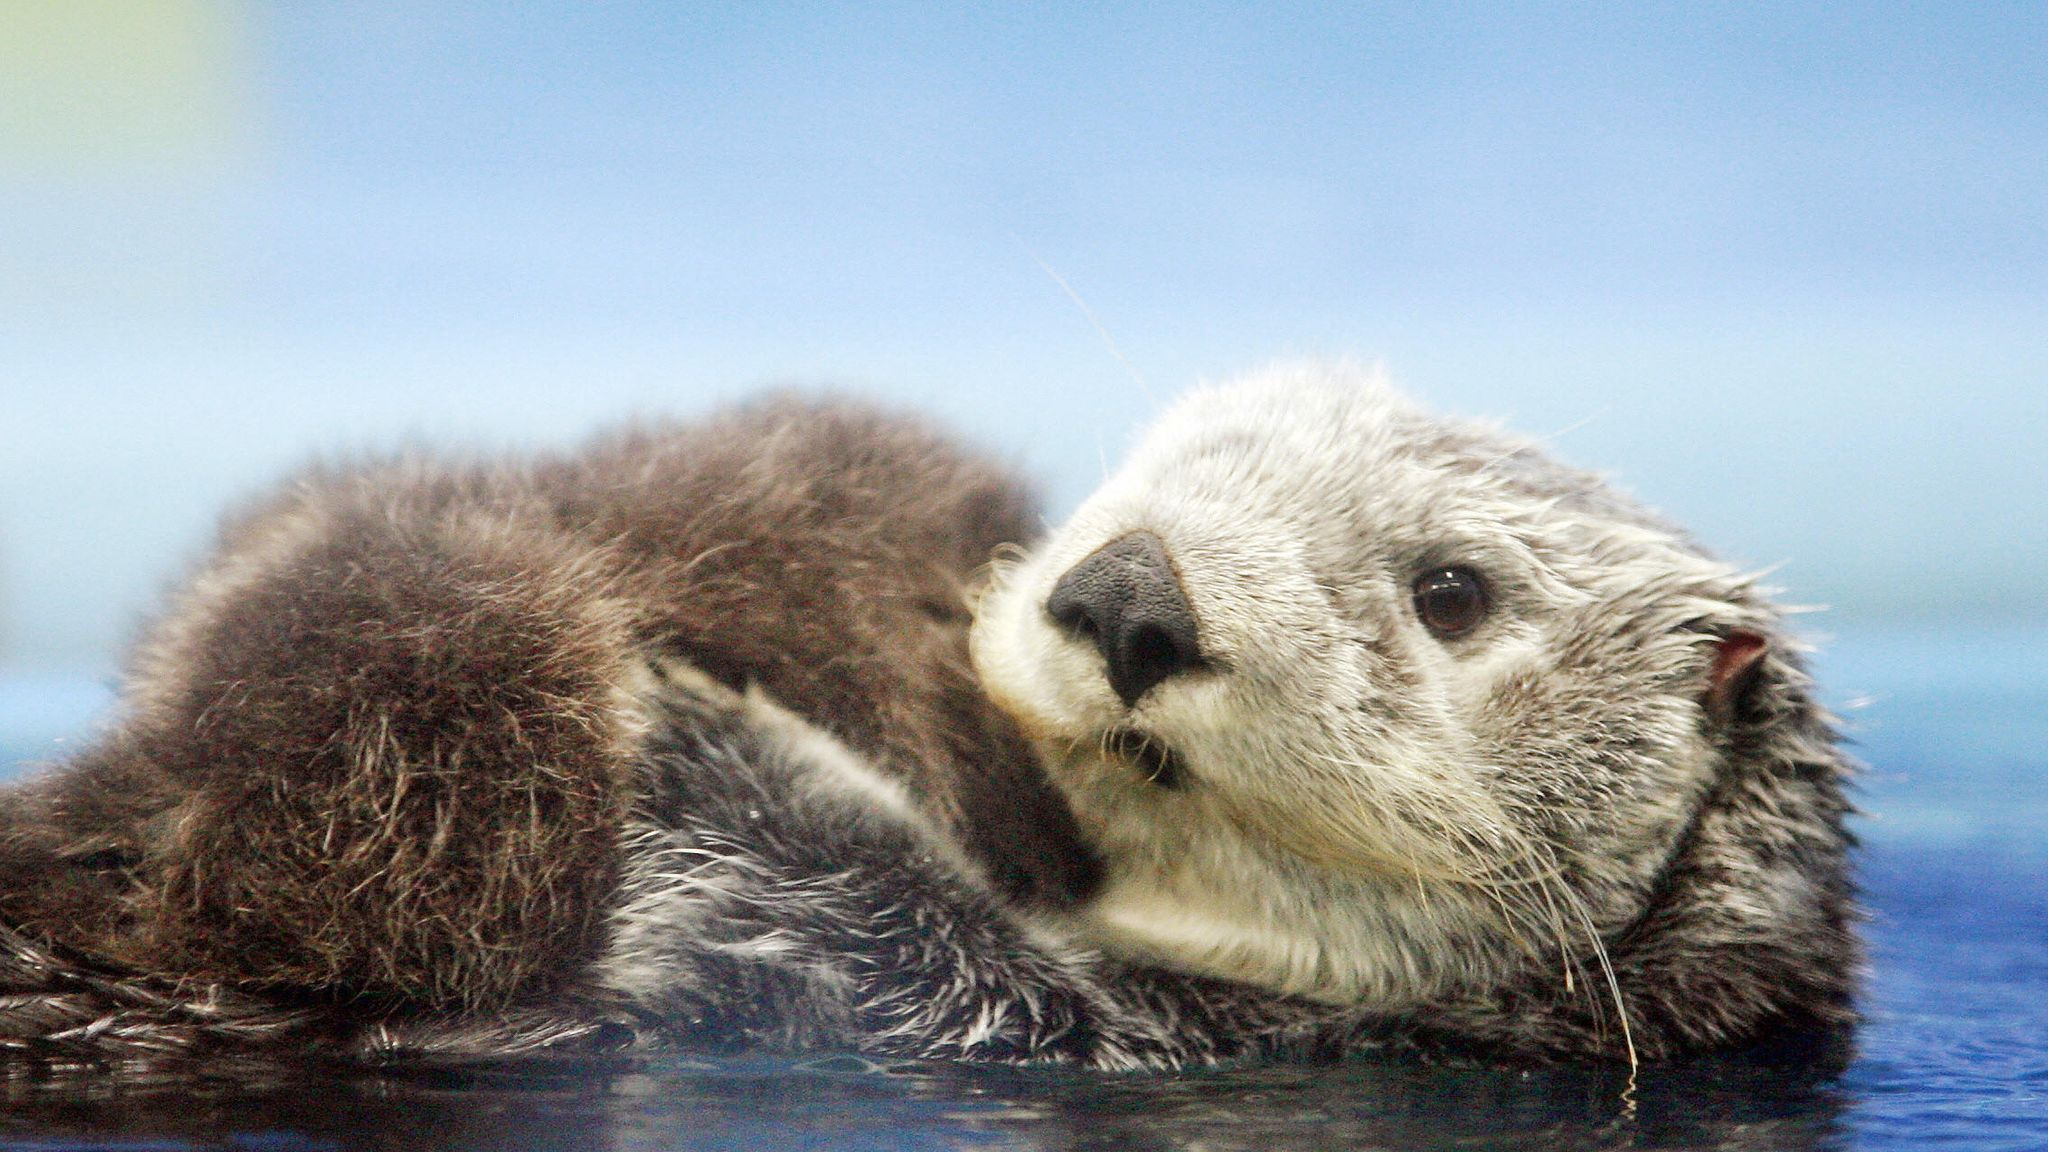otter: (916, 325, 1795, 1099)
